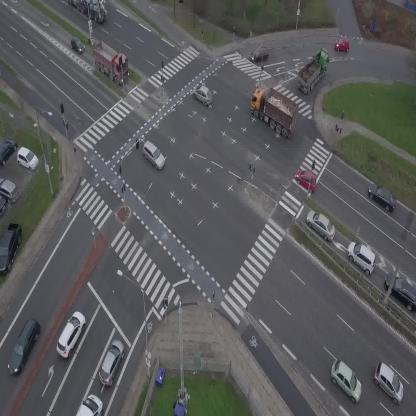car: (2, 316, 44, 376), (323, 358, 370, 405), (51, 308, 90, 359), (367, 360, 412, 404), (95, 337, 129, 388), (341, 237, 383, 277), (301, 205, 341, 244), (363, 181, 401, 213), (137, 140, 170, 171), (292, 166, 322, 194), (190, 82, 216, 107), (66, 34, 87, 57), (250, 46, 269, 61), (335, 38, 349, 52)
lorry: (241, 80, 306, 139), (83, 36, 138, 87), (291, 46, 338, 95), (68, 0, 107, 23), (76, 394, 103, 416)
